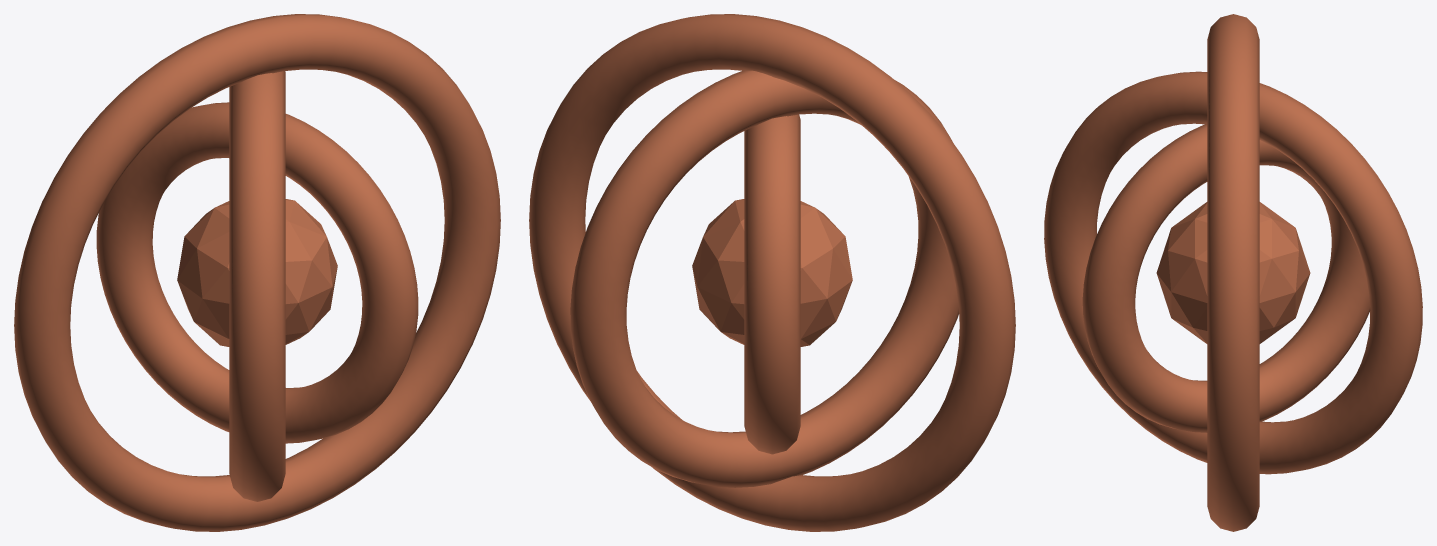
Rendered from form.glb.
3 views of the same model, side by side, from view 1: azimuth 30°, elevation 25°; view 2: azimuth 150°, elevation 25°; view 3: azimuth 270°, elevation 25° (orthographic). The views are drawn at different scales.
Visible parts, largest first — view 1: Folded orbit 1, Folded orbit 3, Folded orbit 2, Core; view 2: Folded orbit 1, Folded orbit 2, Folded orbit 3, Core; view 3: Folded orbit 2, Folded orbit 3, Folded orbit 1, Core.
Part boxes in pixels (x1,y1,x2,y2): Folded orbit 1: [14, 14, 500, 531]; Folded orbit 3: [96, 102, 418, 443]; Folded orbit 2: [229, 71, 285, 501]; Core: [177, 199, 337, 346]; Folded orbit 1: [529, 14, 1015, 531]; Folded orbit 2: [570, 70, 958, 487]; Folded orbit 3: [744, 114, 800, 454]; Core: [692, 199, 852, 346]; Folded orbit 2: [1044, 71, 1422, 474]; Folded orbit 3: [1082, 124, 1370, 432]; Folded orbit 1: [1207, 14, 1259, 531]; Core: [1156, 202, 1310, 343].
Size of the model in its own units: 2.56 by 2.56 by 1.87.
